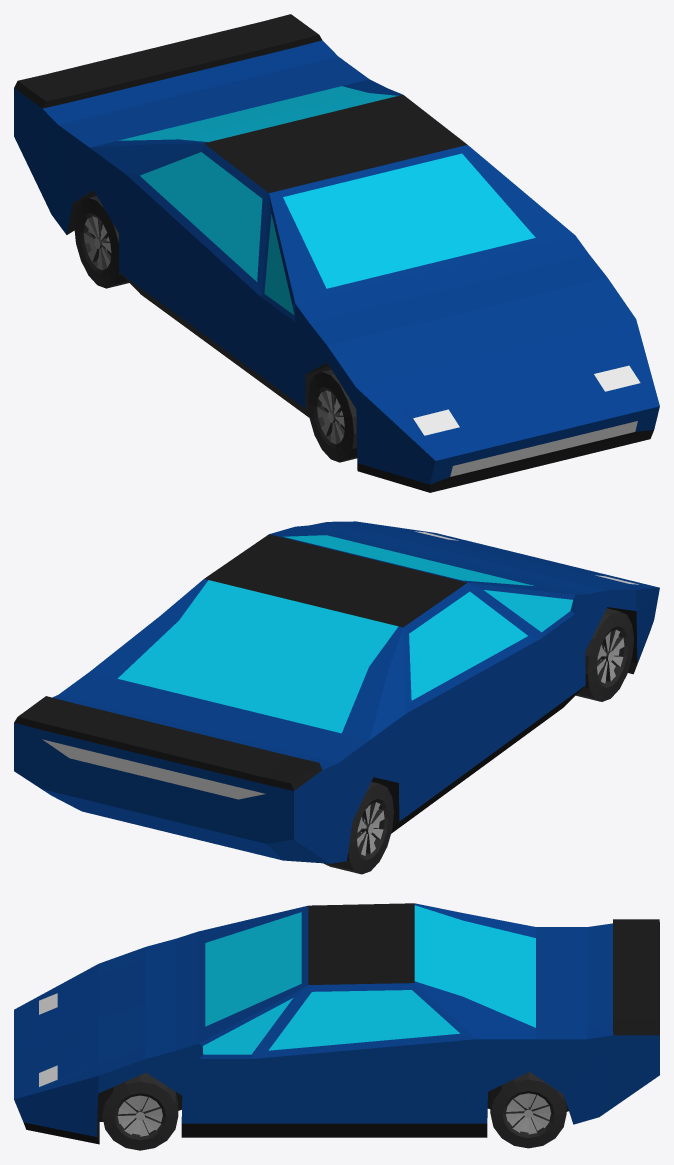
File: Vehicle 2.fbx
The picture shows the model from 3 angles, top to bottom: view 1: azimuth 30°, elevation 25°; view 2: azimuth 150°, elevation 25°; view 3: azimuth 270°, elevation 25°; orthographic projection. The views are drawn at different scales.
Parts seen in each view (by area): view 1: Cube, Wheel_Front_Left.001, Wheel_Rear_Right; view 2: Cube, Wheel_Front_Left.001, Wheel_Rear_Right; view 3: Cube, Wheel_Front_Left, Wheel_Rear_Left.
Boxes of the visible parts, x1,y1,x2,y2 form: Cube: [14, 14, 659, 492]; Wheel_Front_Left.001: [307, 369, 356, 462]; Wheel_Rear_Right: [74, 196, 128, 288]; Cube: [14, 521, 659, 863]; Wheel_Front_Left.001: [576, 608, 633, 701]; Wheel_Rear_Right: [323, 782, 393, 874]; Cube: [14, 903, 659, 1144]; Wheel_Front_Left: [102, 1073, 178, 1150]; Wheel_Rear_Left: [490, 1072, 566, 1148].
Size of the model in its own units: 333 by 205 by 797.
